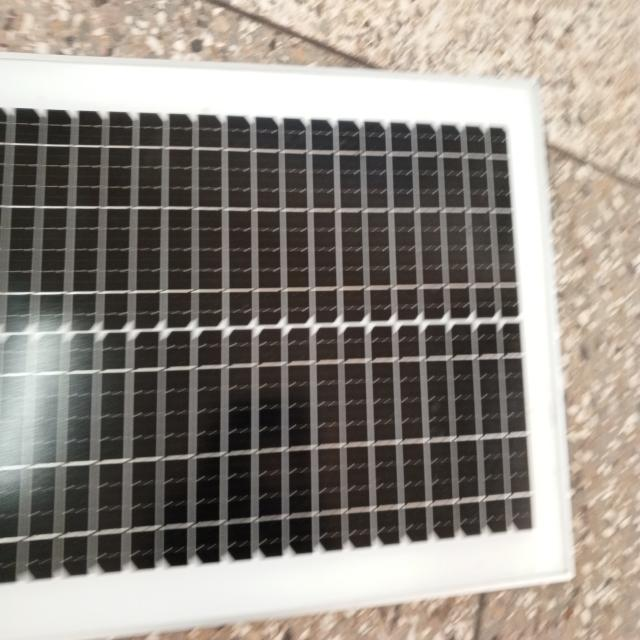Clean: (87, 101, 539, 547)
